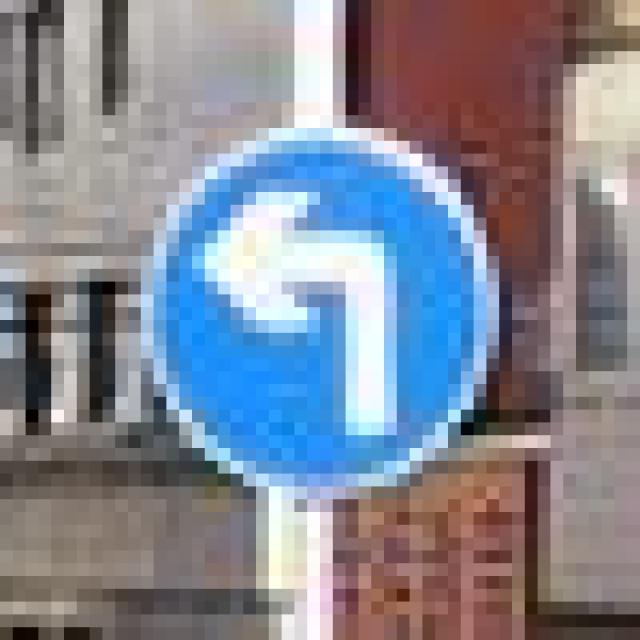compulsory_sound_horn: (116, 102, 487, 486)
